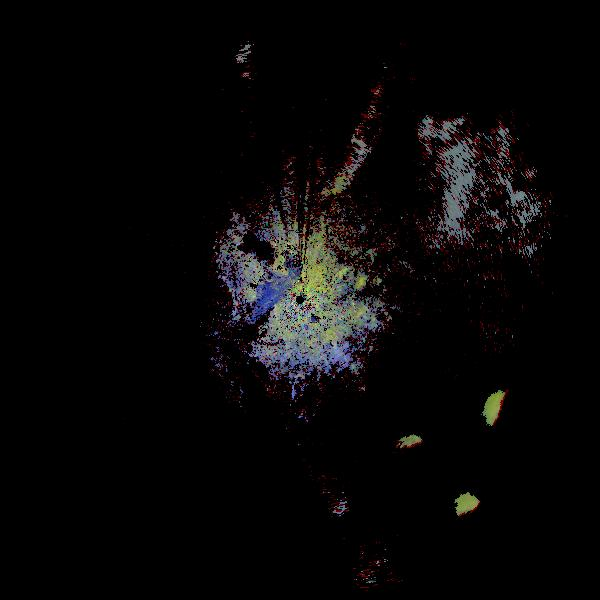roost: (472, 366, 577, 471), (370, 420, 472, 522), (439, 475, 523, 559)
